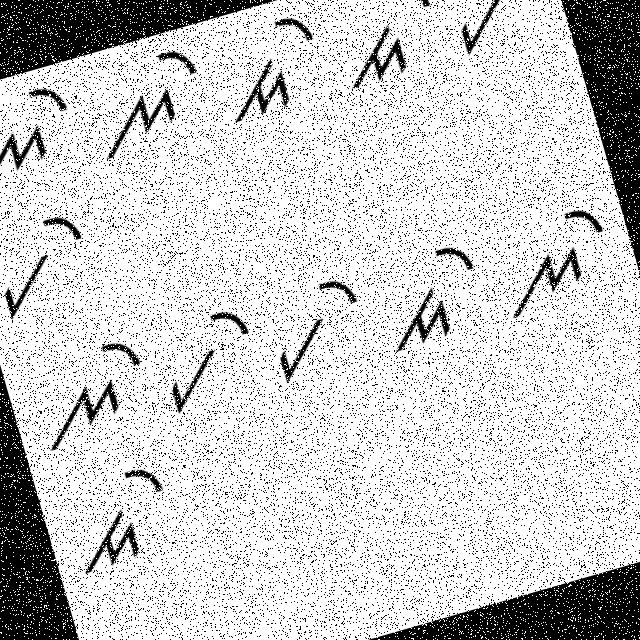day: (56, 458, 196, 598), (200, 3, 342, 138), (364, 225, 494, 358), (327, 0, 456, 103)
nay: (478, 192, 632, 326), (78, 32, 221, 168), (24, 326, 164, 463), (0, 80, 89, 202)
pay: (146, 292, 272, 423), (255, 270, 382, 394), (0, 198, 106, 335), (430, 0, 559, 65)
